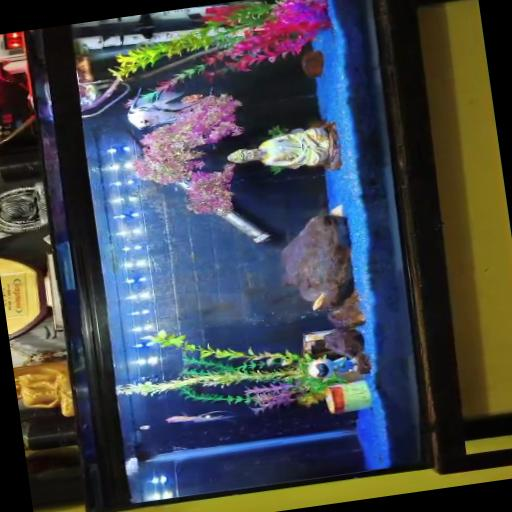Fish: (127, 89, 195, 129), (166, 410, 237, 422)
